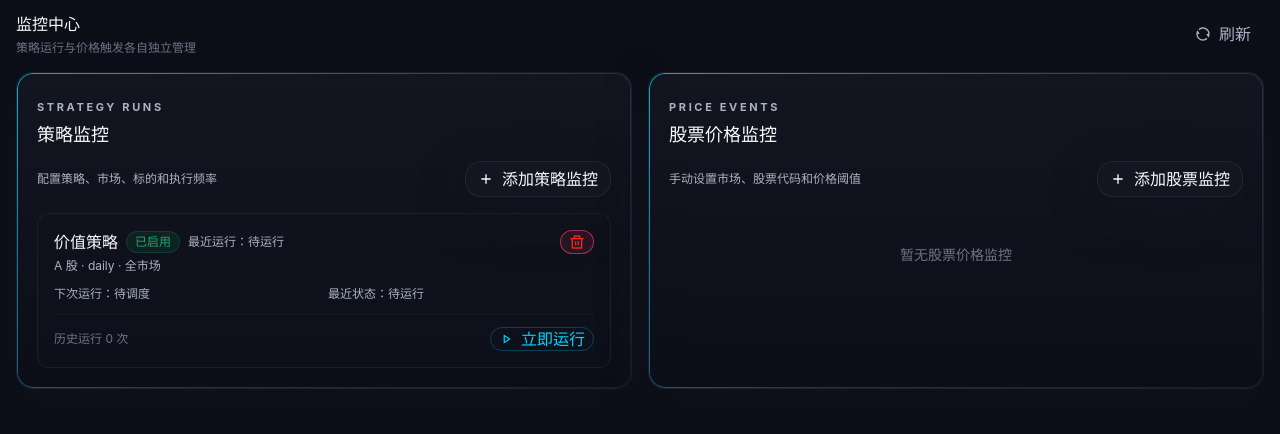
Test: MarketMonitor › refreshes strategy history and shows an error when a run fails
Click the button "立即运行". click: x=542, y=339
box: [490,327,594,351]
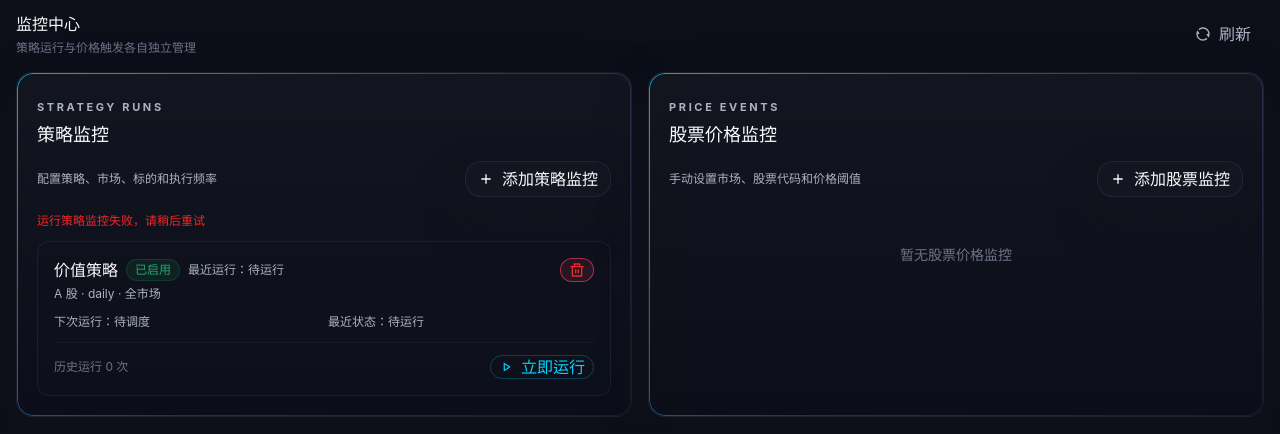
Expected: the message shows "运行策略监控失败", [37,213,205,228]
